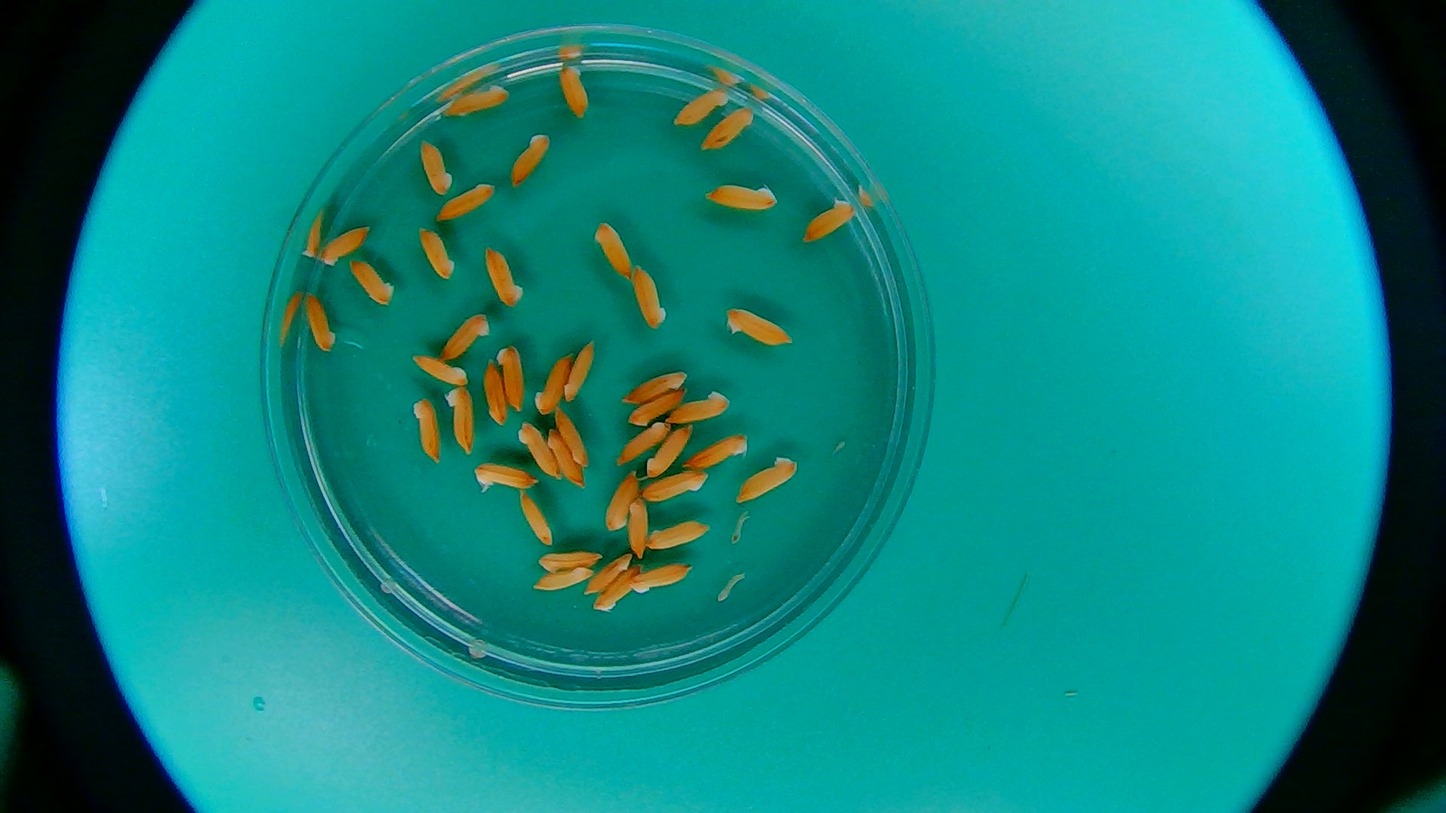no: (729, 455, 798, 504), (721, 305, 796, 348), (431, 180, 498, 227), (514, 419, 563, 480), (434, 309, 491, 361), (619, 361, 688, 403), (800, 196, 859, 245), (591, 223, 635, 282), (486, 245, 526, 309), (642, 470, 711, 507), (643, 517, 712, 554), (616, 422, 670, 469), (692, 108, 755, 148), (682, 431, 750, 468), (664, 86, 726, 126), (579, 551, 634, 596), (348, 257, 395, 309), (436, 84, 510, 117), (591, 564, 639, 614), (516, 490, 557, 548), (533, 352, 570, 416), (662, 391, 731, 425), (631, 265, 667, 330), (703, 181, 776, 213), (561, 340, 598, 403), (544, 429, 584, 487), (407, 349, 468, 387), (509, 134, 550, 190), (300, 295, 340, 352), (626, 562, 694, 594), (554, 406, 589, 468), (495, 346, 527, 413), (320, 222, 368, 266), (410, 396, 442, 462), (442, 386, 474, 452), (627, 393, 689, 427), (418, 227, 457, 281), (418, 139, 454, 196), (604, 473, 636, 533), (557, 64, 590, 120), (625, 496, 651, 565), (526, 568, 592, 595), (535, 548, 601, 575), (482, 363, 509, 428)
yes: (470, 457, 538, 492)
